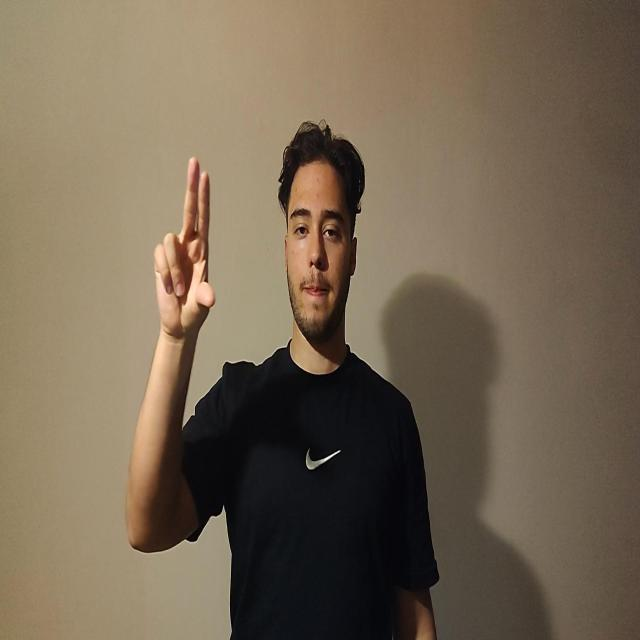no: (154, 155, 216, 340)
